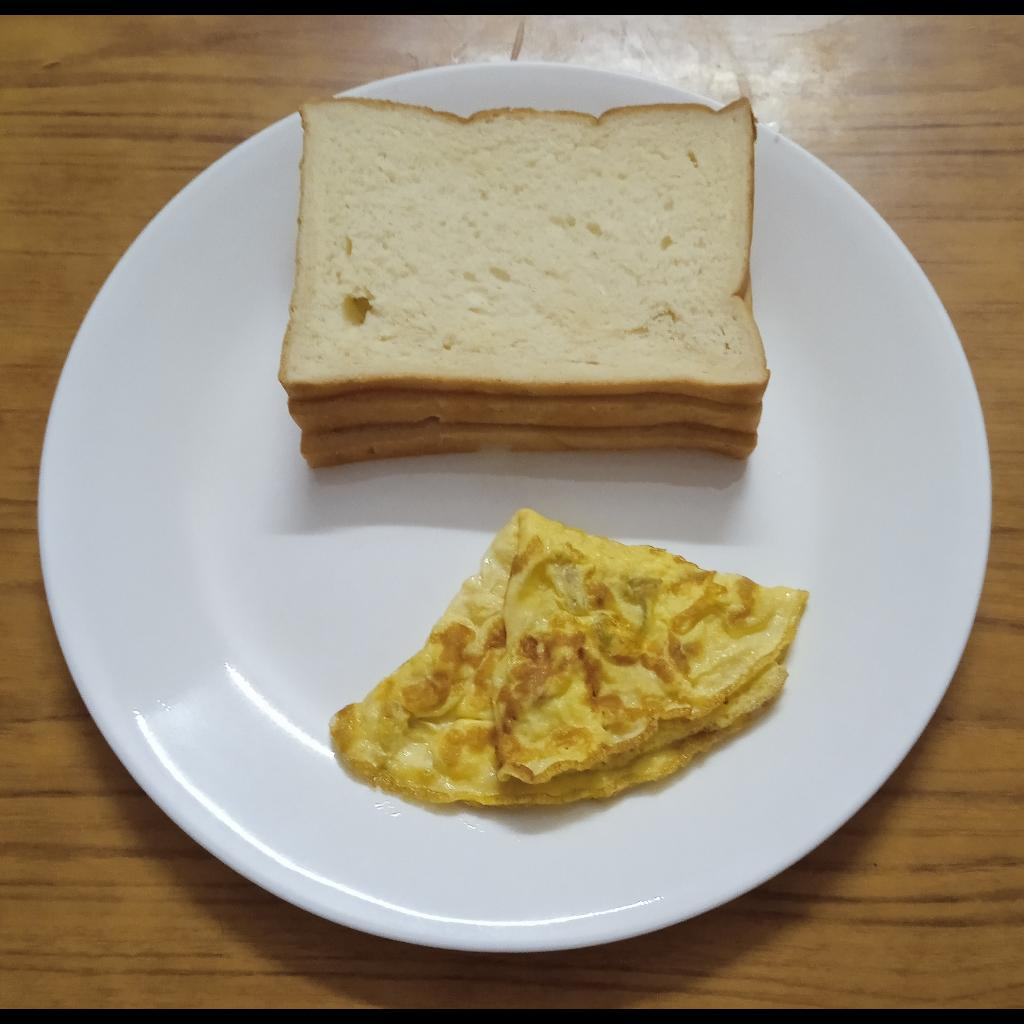bread: (279, 96, 770, 470)
egg-poached: (328, 508, 810, 808)
